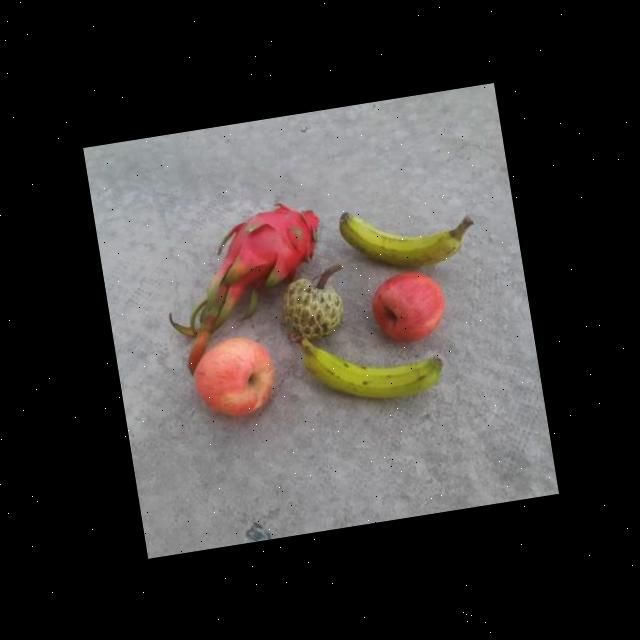Sakya fruit: (276, 267, 346, 344)
apple: (190, 334, 277, 418), (364, 270, 449, 344)
banana: (300, 323, 446, 412), (333, 188, 475, 278)
pitaya: (216, 202, 314, 290)
